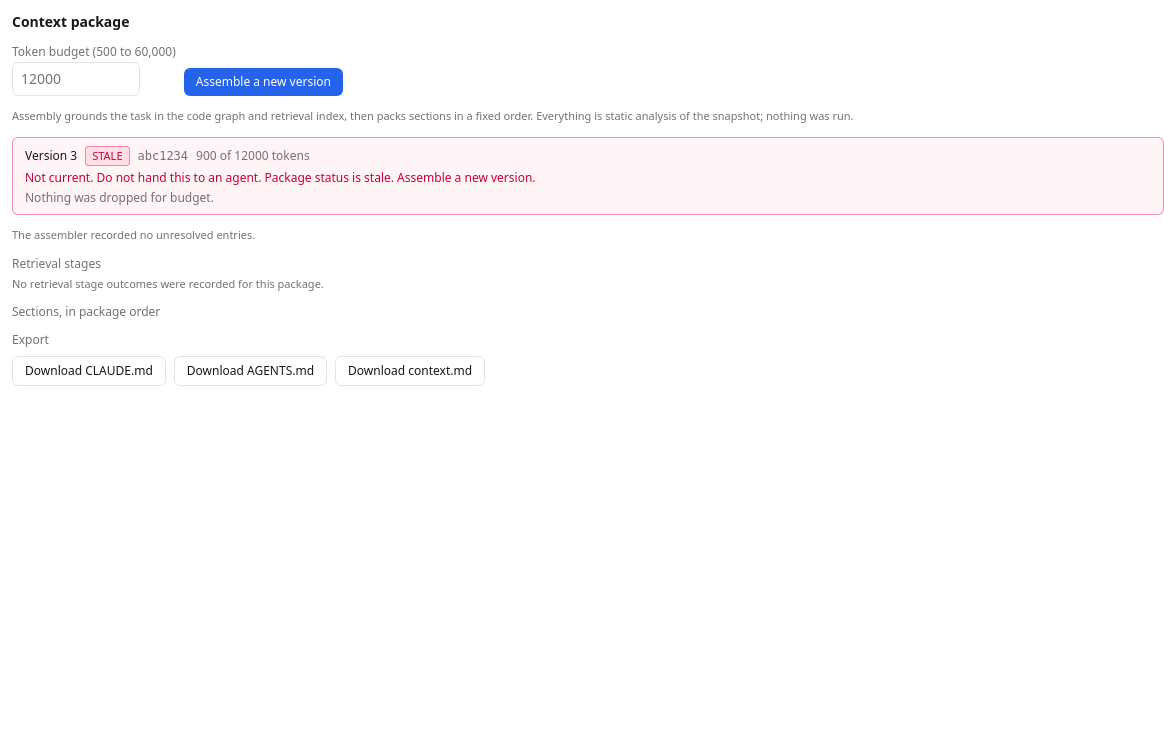
Test case: exporting a package that is not current › shows the refusal and only exports stale content after an explicit second click
Click the button "Download CLAUDE.md".
click(89, 371)  # box [12, 356, 166, 386]
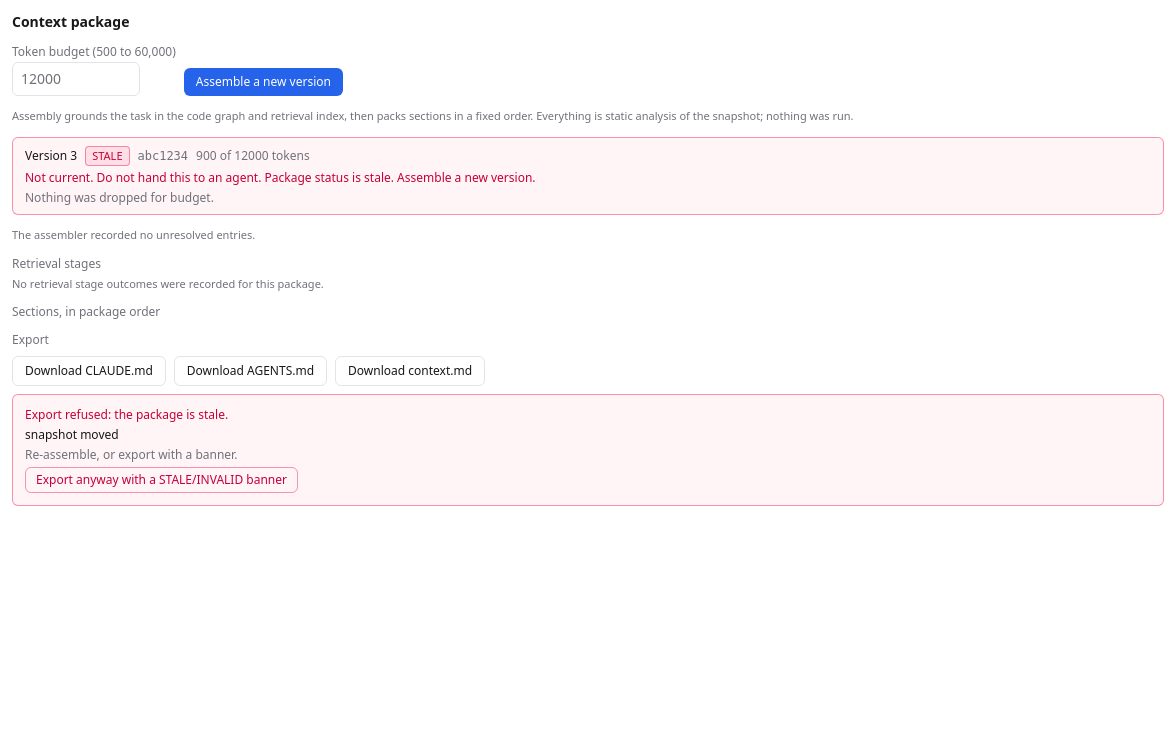
Now the text "Export refused: the package is stale." is shown, box [25, 406, 228, 423]
Click the button "Export anyway with a STALE/INVALID banner".
click(162, 480)  # box [25, 467, 298, 493]
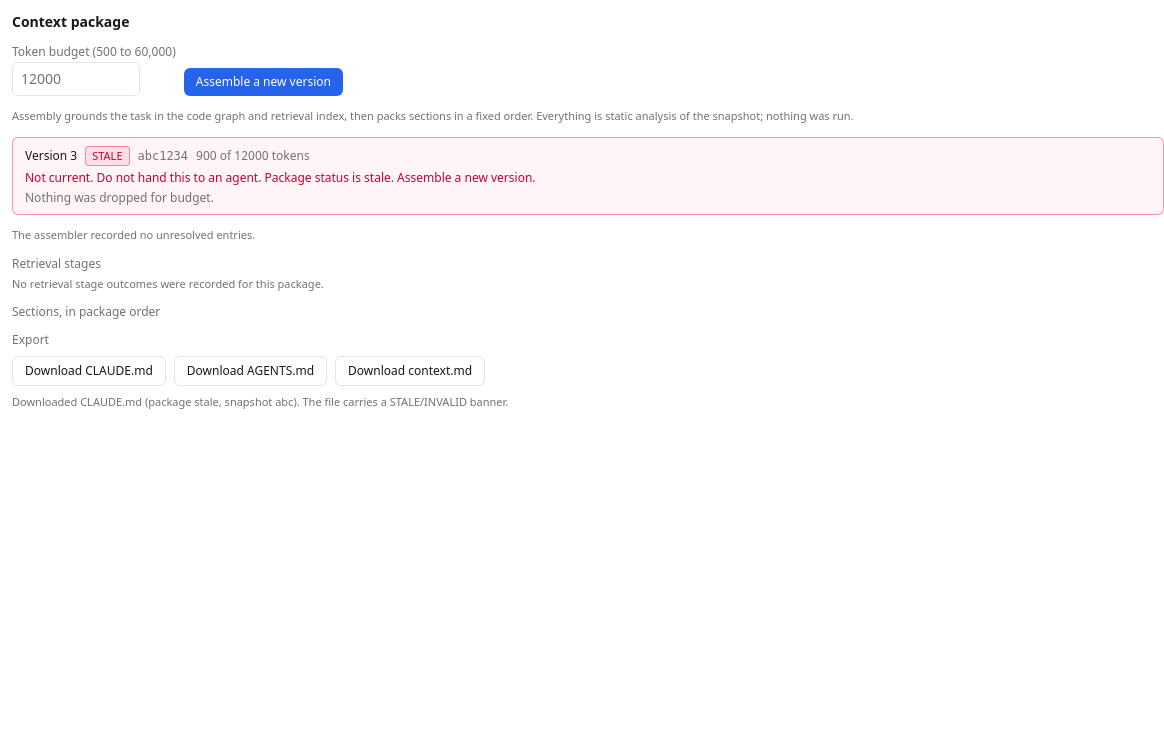
Now the text "carries a STALE/INVALID banner" is shown, box [12, 394, 508, 409]
